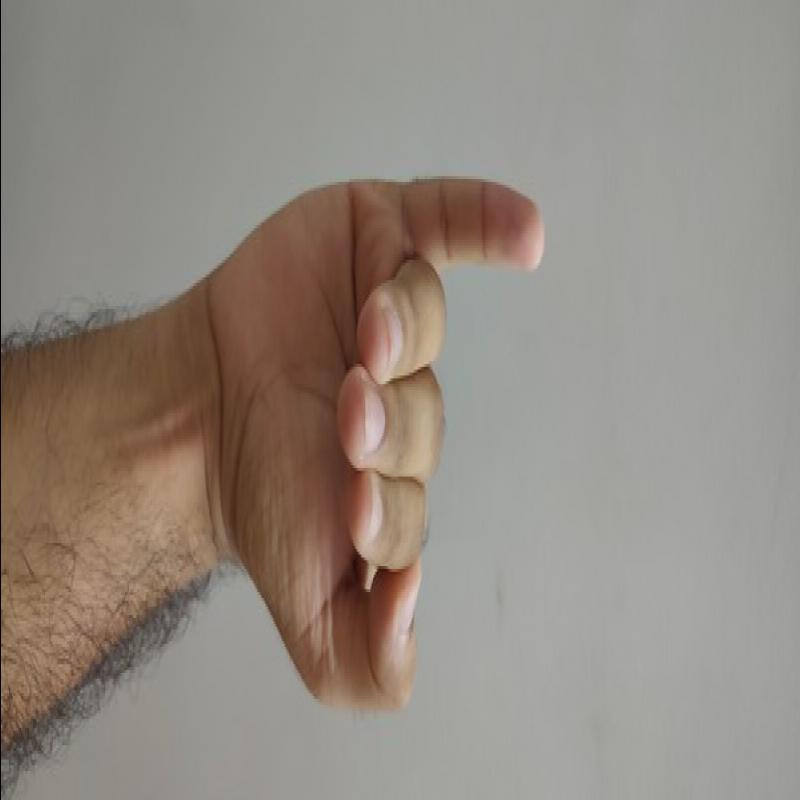Kartharee Mukham: (189, 144, 560, 726)
